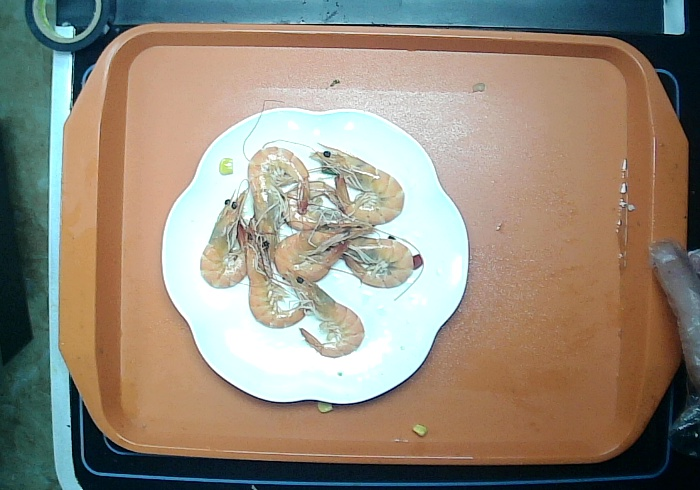HZYJPL-Bai_Se_Hua_Duo_Wan: (156, 95, 475, 417)
